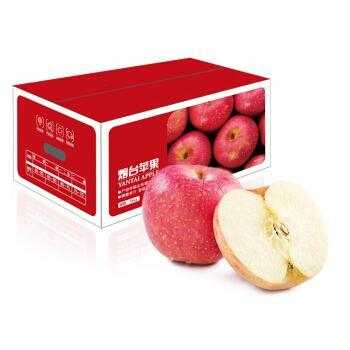apple: (216, 181, 328, 292), (141, 163, 245, 266), (212, 115, 258, 169), (187, 93, 233, 133), (166, 130, 211, 166), (232, 86, 264, 117)
